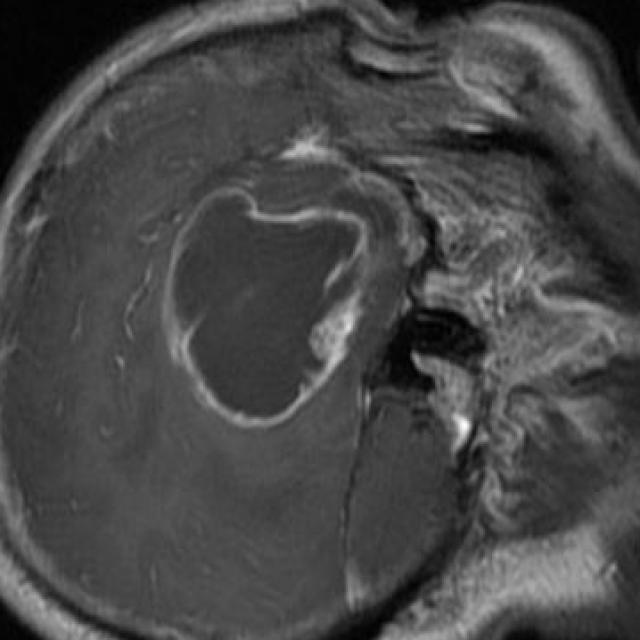glioma: (162, 184, 373, 431)
